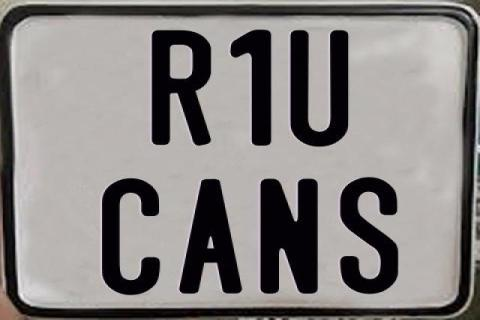0: (228, 28, 269, 144)
A: (177, 178, 242, 294)
C: (102, 177, 164, 296)
N: (259, 177, 322, 292)
R: (152, 30, 212, 146)
S: (338, 176, 397, 298)
U: (287, 28, 346, 149)
